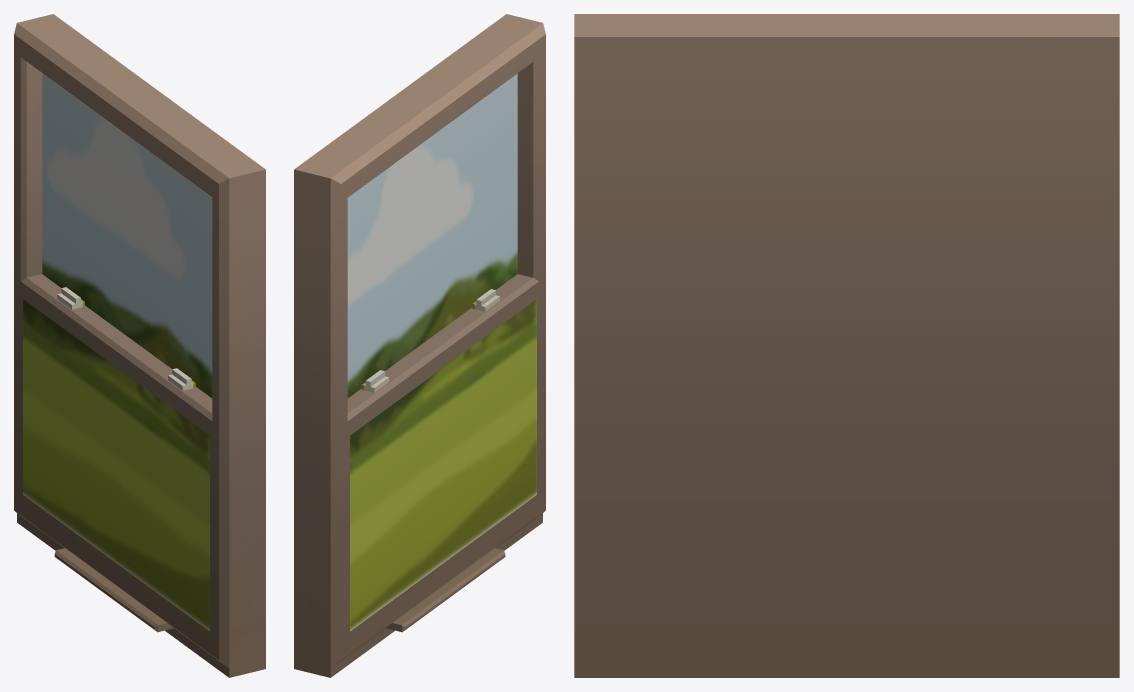
File: window02.fbx
3 renders of one model, left to right at view 1: azimuth 30°, elevation 25°; view 2: azimuth 150°, elevation 25°; view 3: azimuth 270°, elevation 25°, orthographic. The views are drawn at different scales.
Parts seen in each view (by area): view 1: window02; view 2: window02; view 3: window02.
Part boxes in pixels (x1,y1,x2,y2): window02: (14,14,265,677); window02: (294,14,545,677); window02: (574,14,1119,677).
Bounding box in the file's own units: 0.5374 × 4.63 × 3.57.
